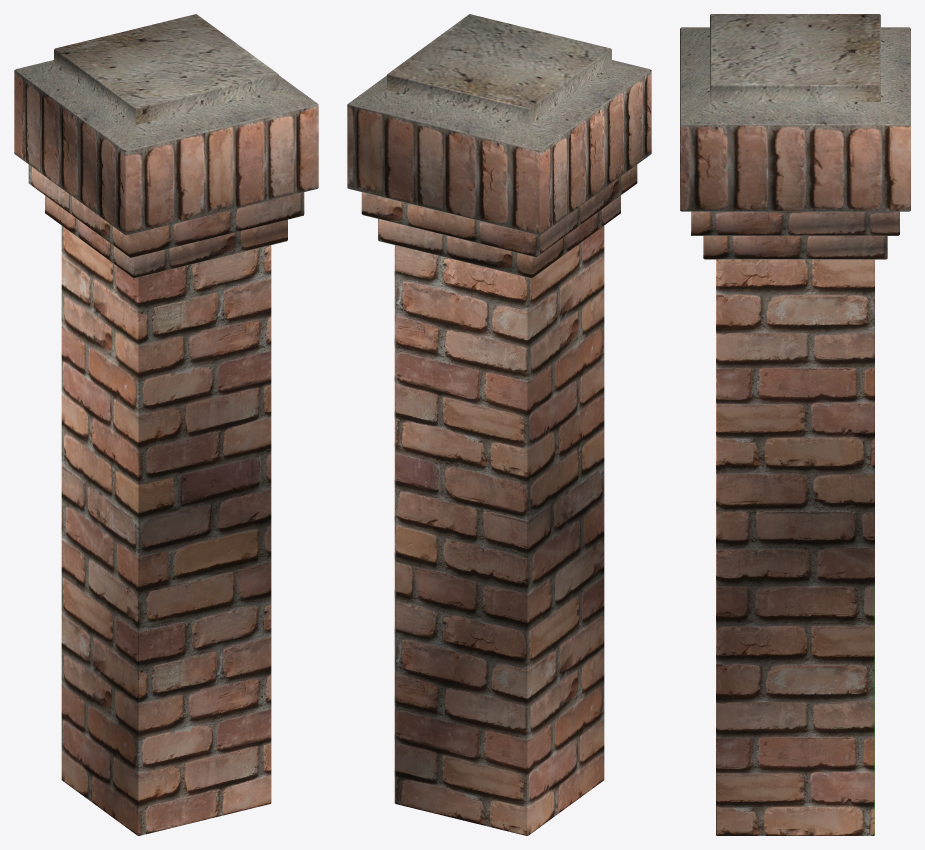
The model's file is column.obj.
The picture shows the model from 3 angles, left to right: view 1: azimuth 30°, elevation 25°; view 2: azimuth 150°, elevation 25°; view 3: azimuth 270°, elevation 25°; orthographic projection. The views are drawn at different scales.
Size of the model in its own units: 84.11 by 303 by 84.11.
Materials: 1 (1 with a texture image).
